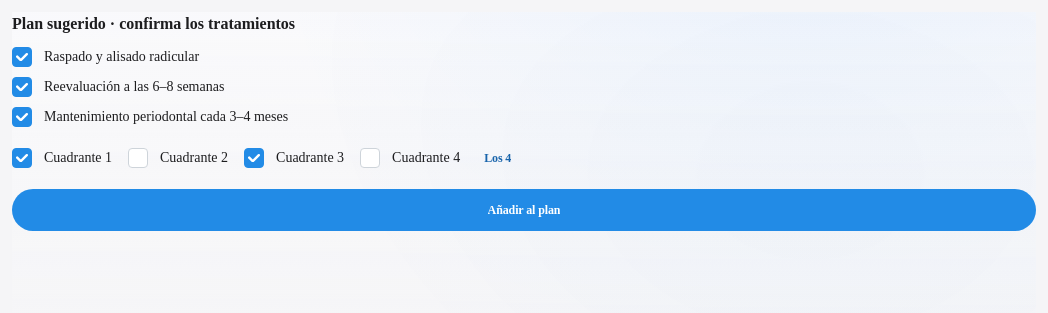
keeps selection and reports catalog errors
Click the button "Añadir al plan".
click(524, 210)  # box [12,189,1036,231]
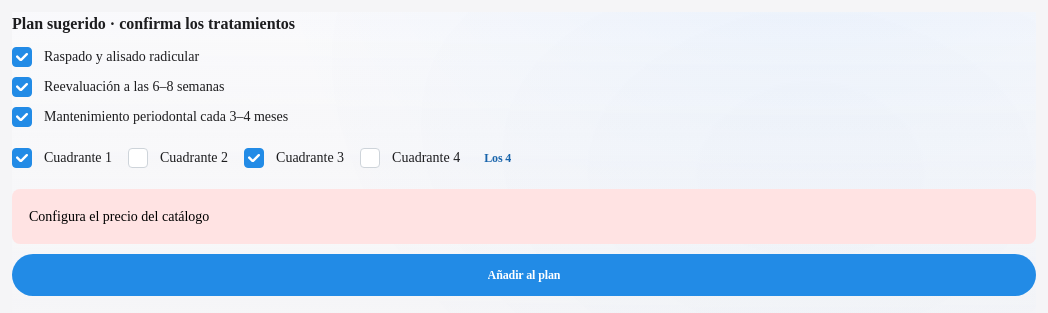
Expected: the checkbox labelled "Cuadrante 1" is checked, [12,148,32,168]
Result: the message shows "Configura el precio" at [29,209,209,224]
